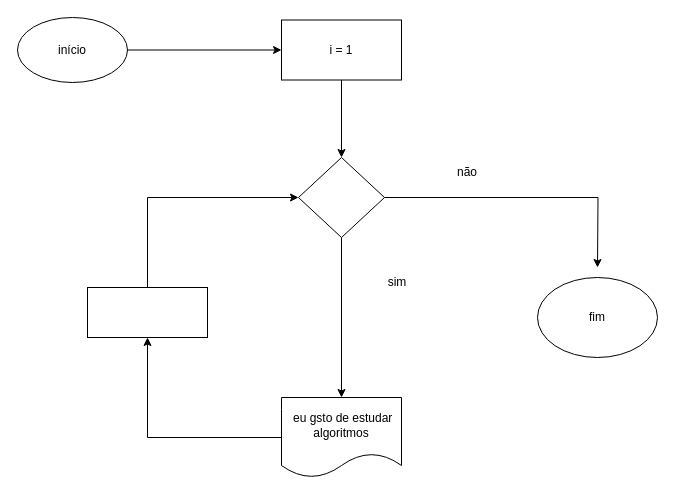
Image size: 675x495. Some labels were removed from this diagram. The centre of each missing label's shape, as x and y in pixels:
i <= 20: [341,197]
i++: [147,312]
